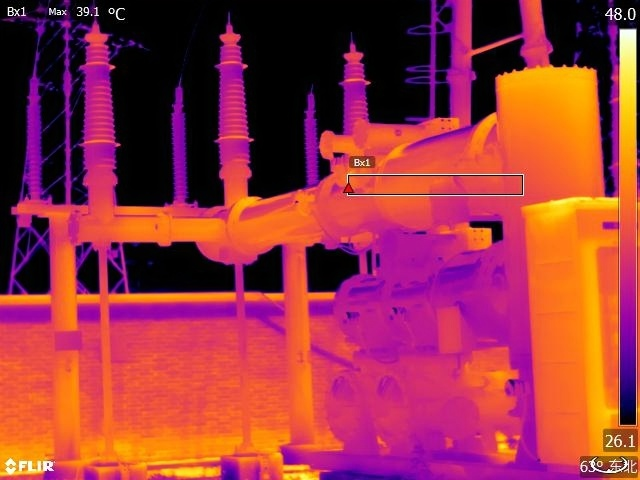lightning arrester: (167, 96, 190, 205), (25, 87, 44, 201), (301, 98, 321, 187)
tube: (79, 18, 126, 191), (213, 22, 258, 181), (338, 45, 375, 133)
